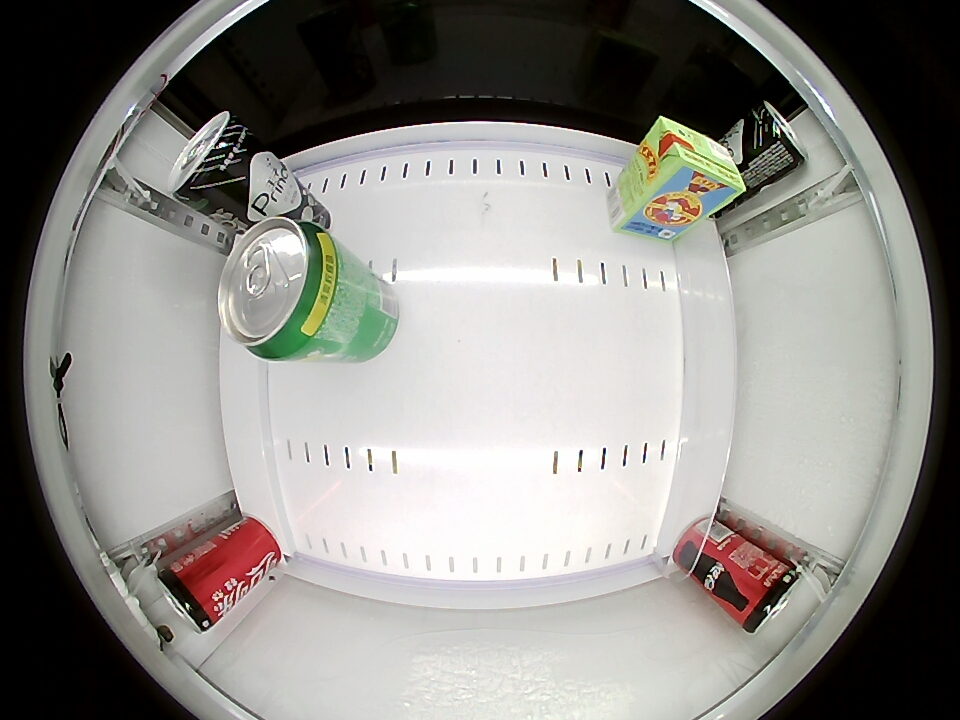lingdukele: (731, 555, 800, 635), (156, 554, 223, 634)
qingdaowangzi-1: (168, 111, 251, 207), (743, 100, 807, 176)
wanglaoji: (645, 115, 747, 207)
xuebi2: (218, 218, 351, 361)
